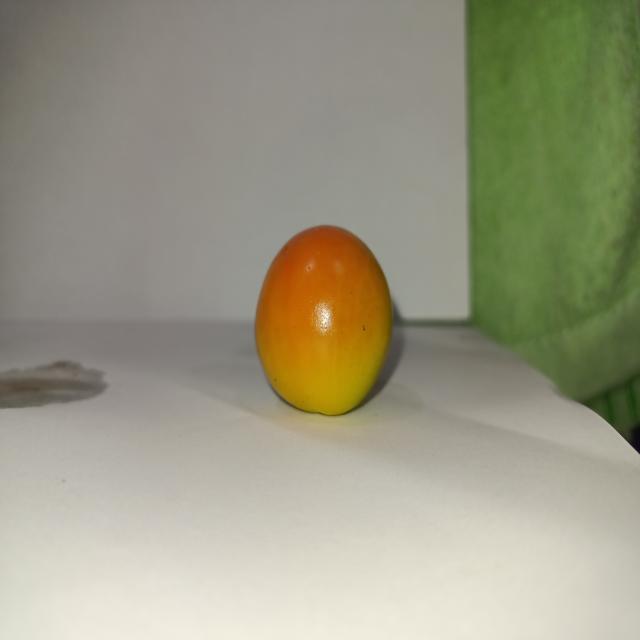Red: (253, 223, 393, 416)
